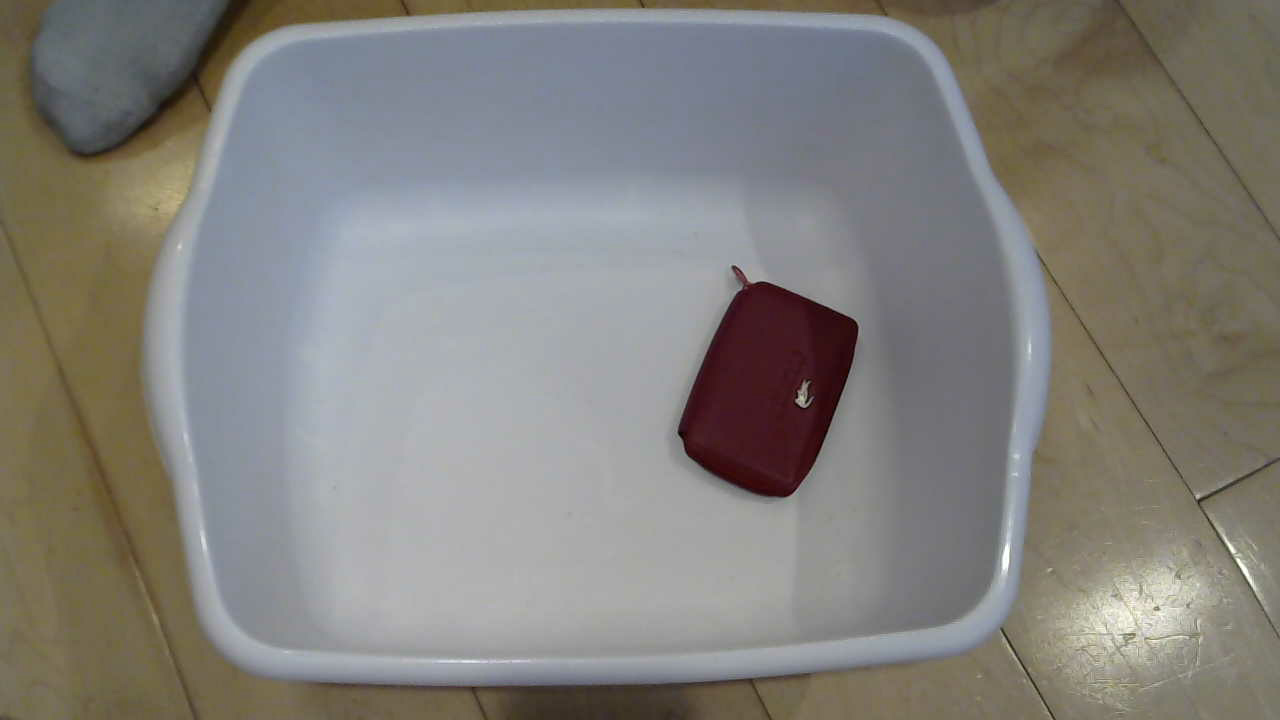wallet: (643, 272, 879, 512)
